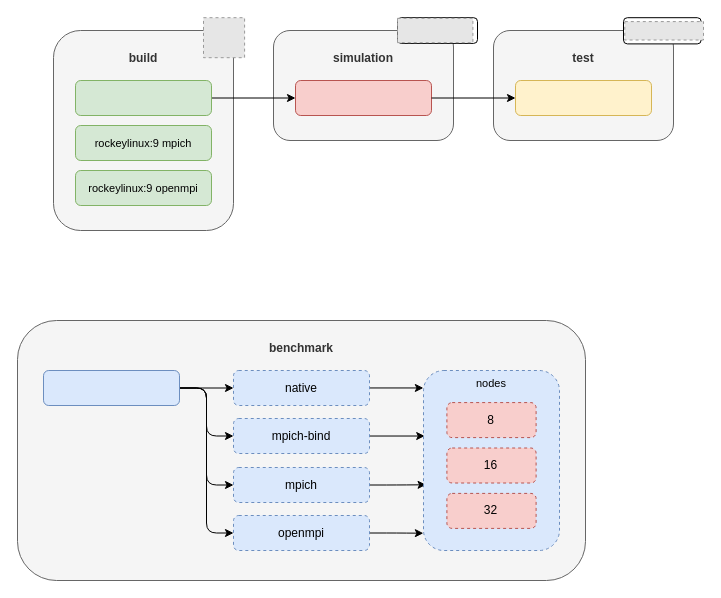
Image size: 721x598. Some labels were removed from this diagram. Grey dashed boxes stand in for pictures. Here are the shapes that lost their labels. From the top down, the centre of each, then its label:
pixel 143 98: rockeylinux:9 mpich-bind
pixel 363 98: run simulation
pixel 583 98: verify results
pixel 111 388: create benchmark jobs
